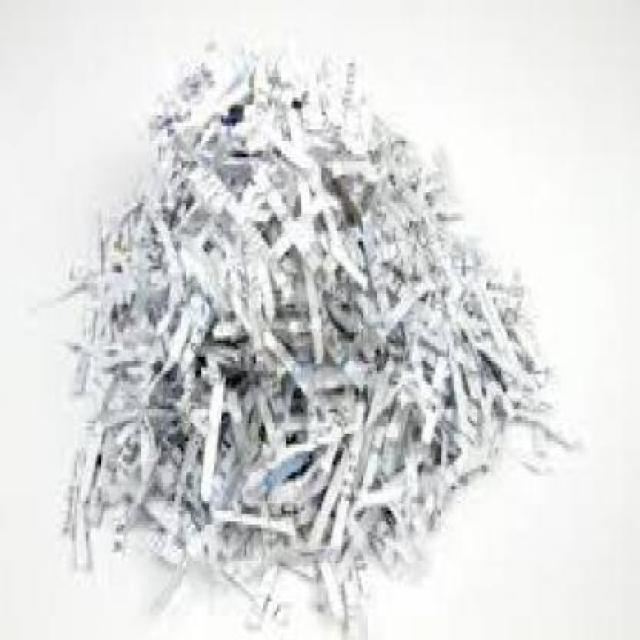paper: (30, 32, 578, 623)
